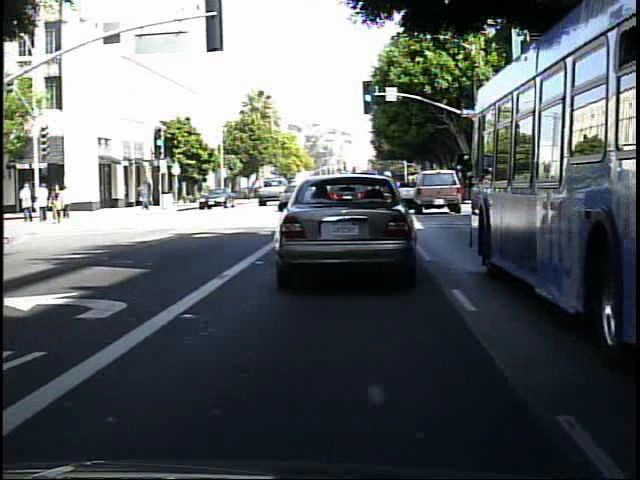person: (18, 179, 37, 225), (36, 181, 52, 224), (136, 179, 154, 216), (49, 184, 64, 224), (61, 181, 76, 221), (49, 184, 64, 221)
